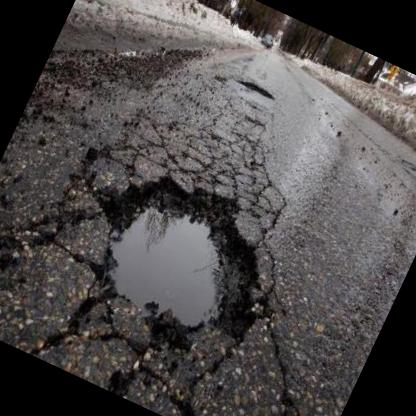pothole: (52, 141, 307, 384), (237, 74, 278, 102)
